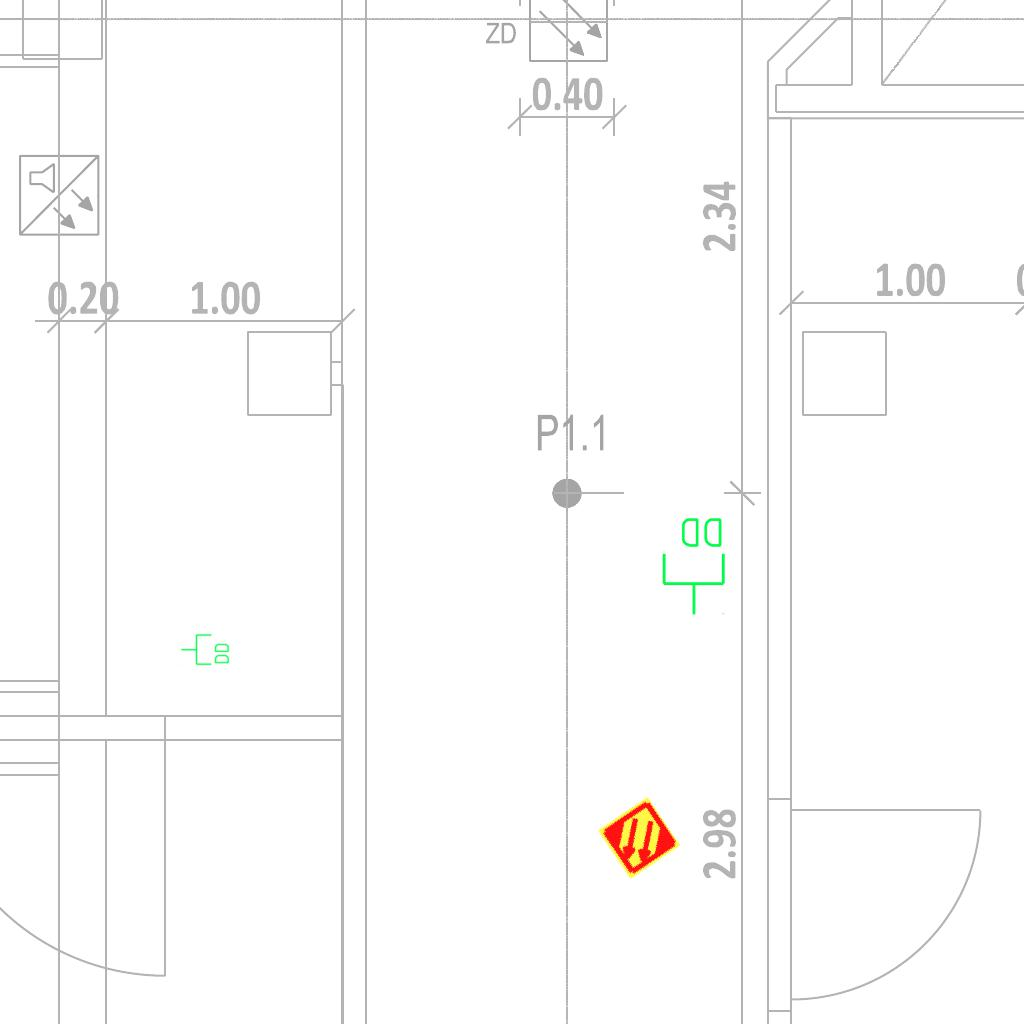ASR_Ansaugrauchmelder: (595, 794, 683, 882)
Datenanschluss_zweifach: (660, 514, 729, 617), (180, 633, 231, 667)
